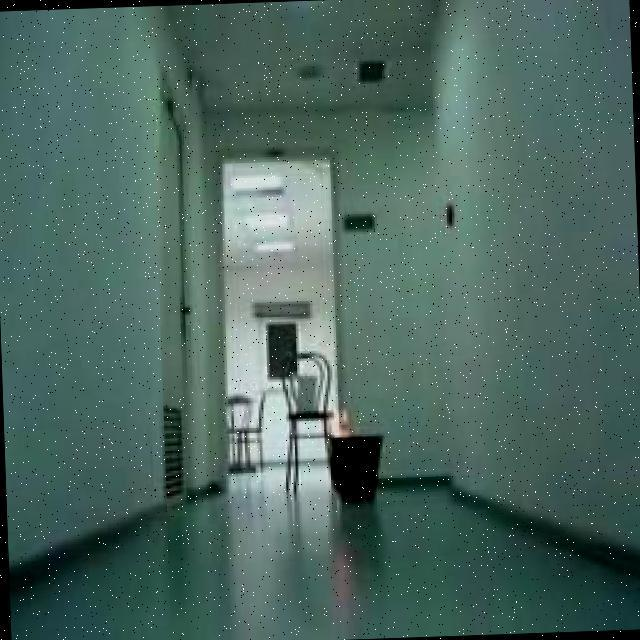Fire: (326, 407, 351, 436)
